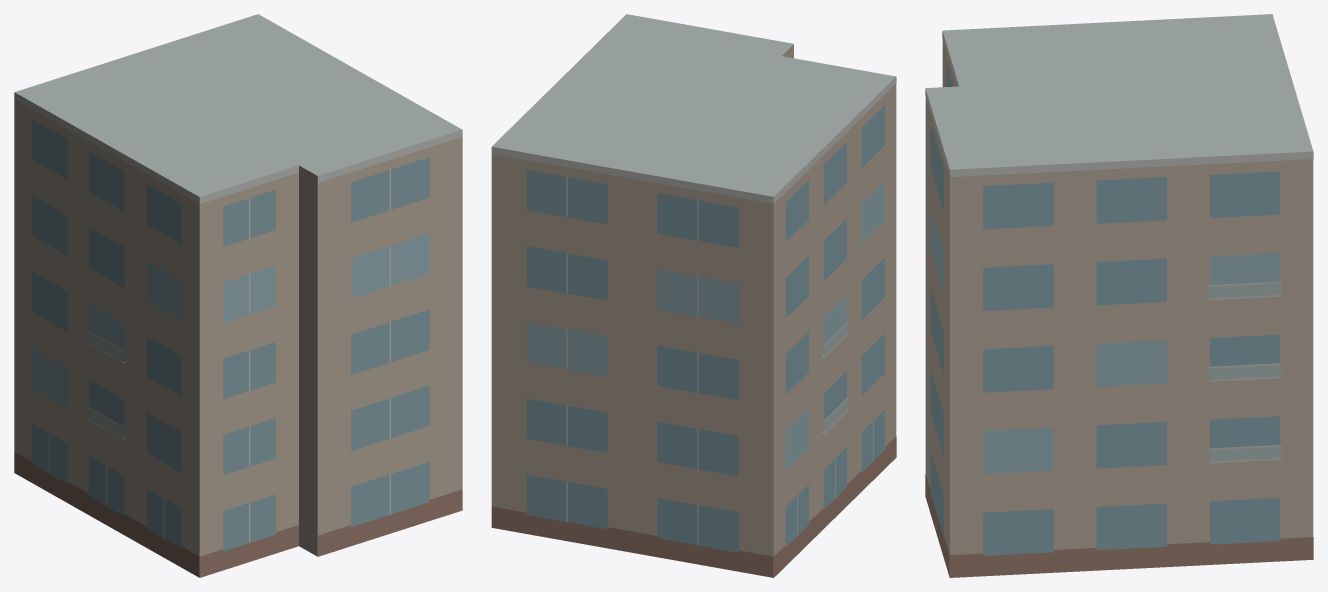
Rendered from survey-upis-32654813.glb.
3 views of the same model, side by side, from view 1: azimuth 30°, elevation 25°; view 2: azimuth 150°, elevation 25°; view 3: azimuth 270°, elevation 25° (orthographic). The views are drawn at different scales.
Visible parts, largest first — view 1: survey-upis-32654813.tmp; view 2: survey-upis-32654813.tmp; view 3: survey-upis-32654813.tmp.
Part boxes in pixels (x1,y1,x2,y2): survey-upis-32654813.tmp: [14, 14, 462, 577]; survey-upis-32654813.tmp: [491, 14, 896, 577]; survey-upis-32654813.tmp: [925, 14, 1313, 577].
Size of the model in its own units: 10.89 by 13.3 by 11.47.
